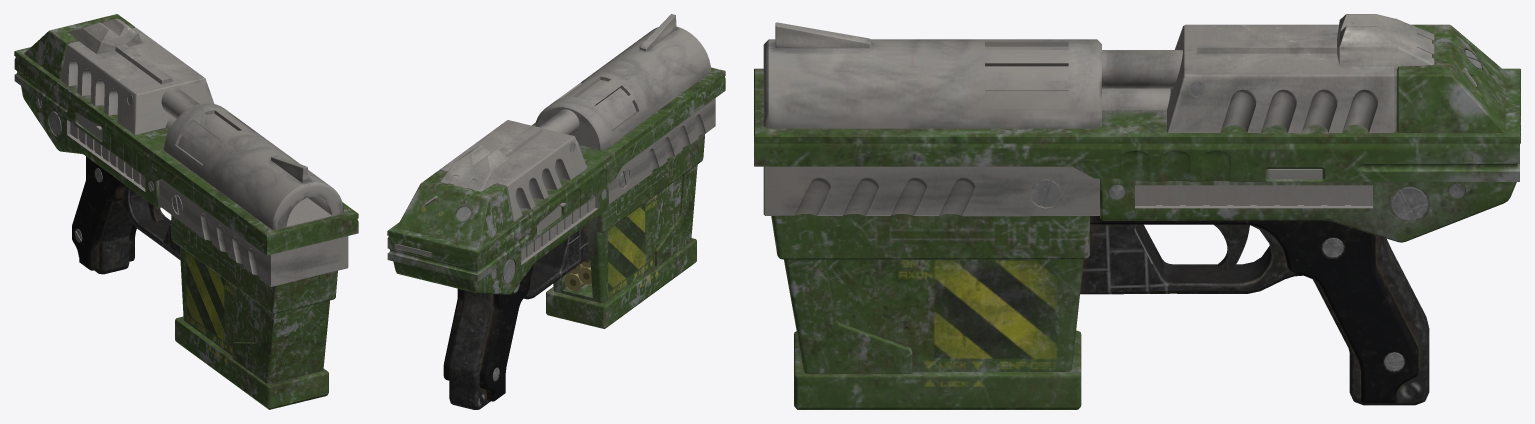
The model's file is enforcer.glb.
The picture shows the model from 3 angles, left to right: view 1: azimuth 30°, elevation 25°; view 2: azimuth 150°, elevation 25°; view 3: azimuth 270°, elevation 25°; orthographic projection. The views are drawn at different scales.
Parts seen in each view (by area): view 1: model_0; view 2: model_0; view 3: model_0.
Part boxes in pixels (x1,y1,x2,y2): model_0: (14, 14, 358, 409); model_0: (387, 14, 725, 409); model_0: (754, 14, 1520, 409).
Bounding box in the file's own units: 4.64 × 11.65 × 21.51.
Materials: 1 (1 with a texture image).
